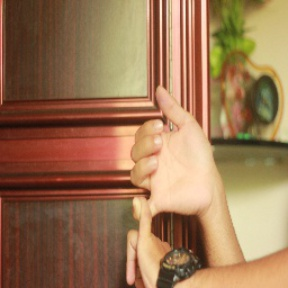S: (117, 81, 226, 288)
